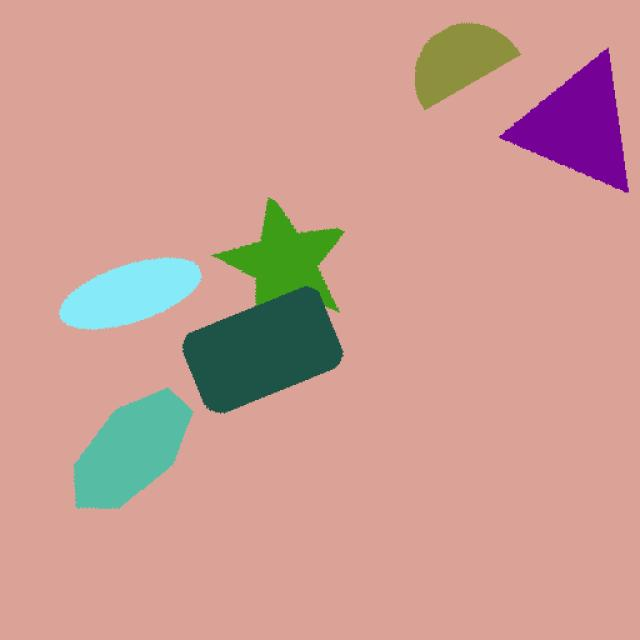Heptagon: (64, 378, 203, 539)
Oval: (52, 253, 210, 335)
Rectangle: (161, 283, 364, 425)
Semicircle: (406, 17, 534, 114)
Star: (198, 196, 356, 330)
Triangle: (490, 28, 640, 204)
